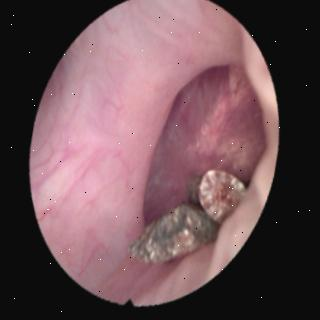stone: (127, 176, 245, 264)
tissue: (32, 4, 275, 303)
